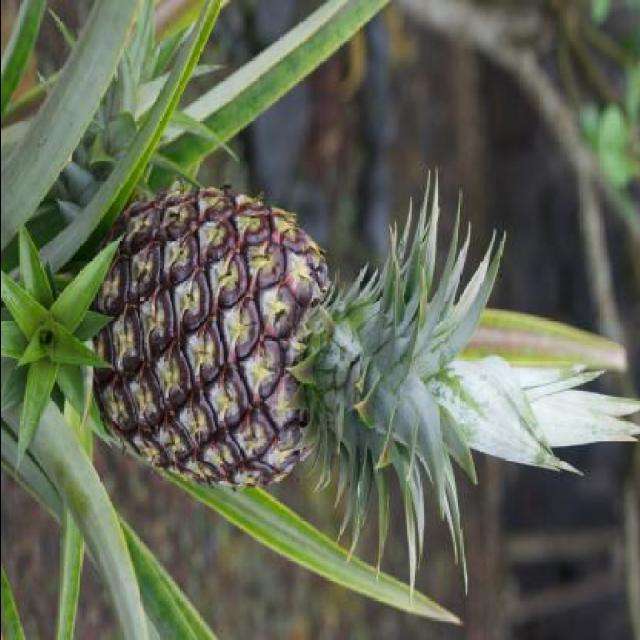Pineapple: (82, 164, 640, 610)
